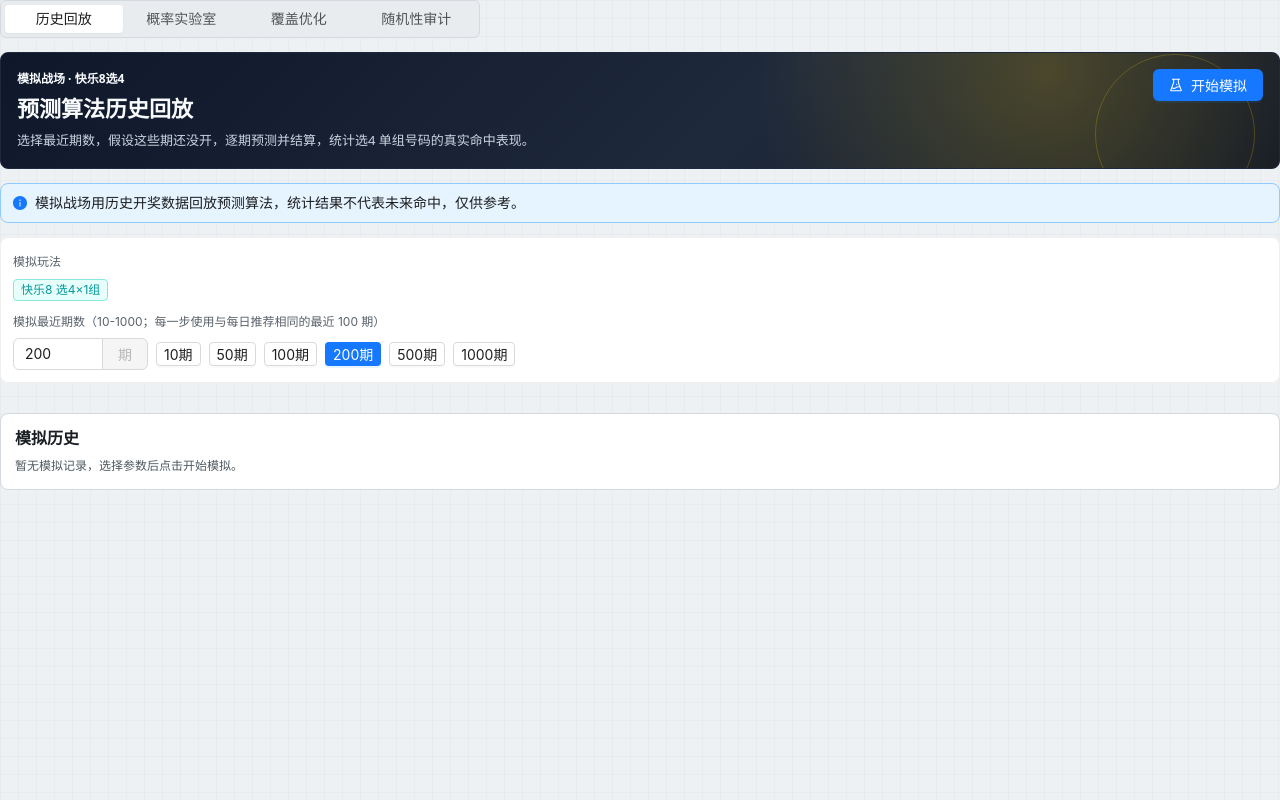
Test case: SimulationPanel › switches between replay and probability lab modes
Expected: the text "暂无模拟记录，选择参数后点击开始模拟。" is shown, [15,457,243,474]
Click the text "概率实验室".
click(181, 18)  # box [146,10,216,27]
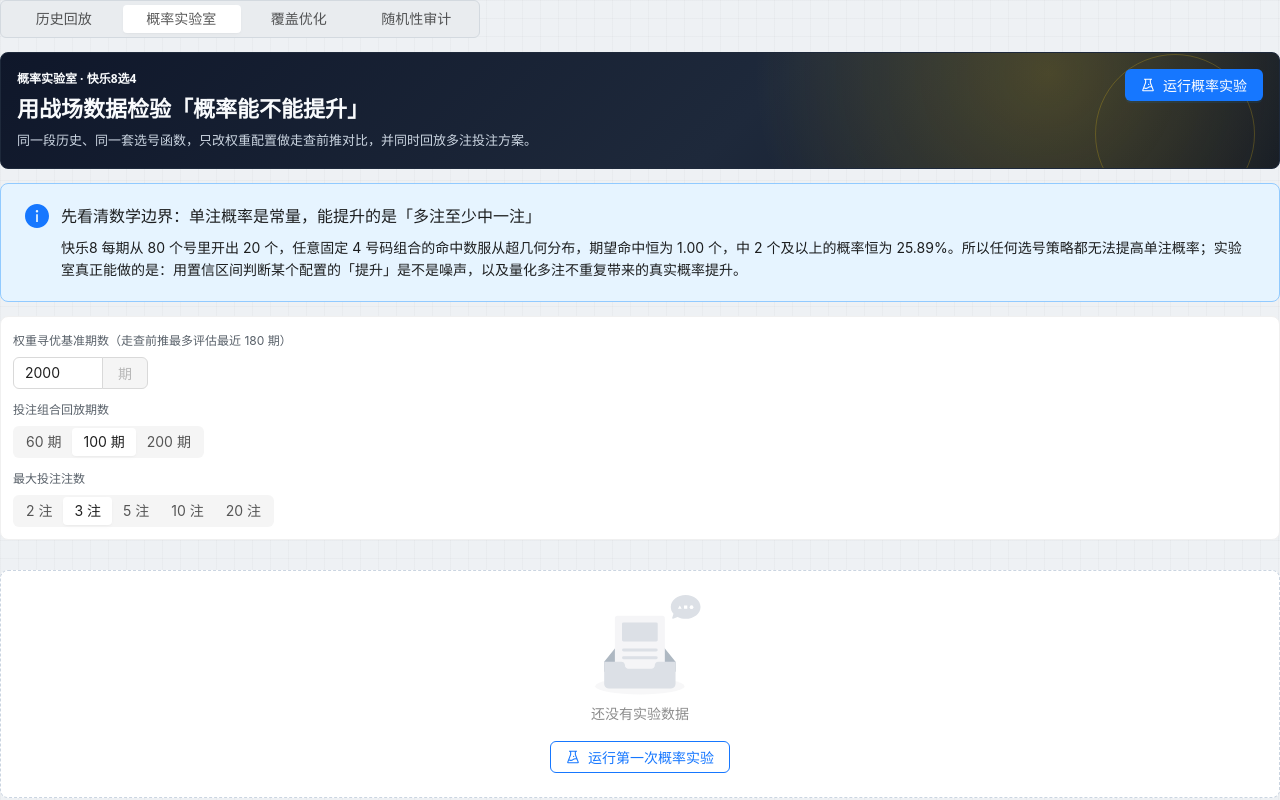
Now the text "还没有实验数据" is shown, box [591,705,689,722]
Now the text "暂无模拟记录，选择参数后点击开始模拟。" is gone
Click the text "历史回放".
click(64, 18)  # box [36,10,92,27]
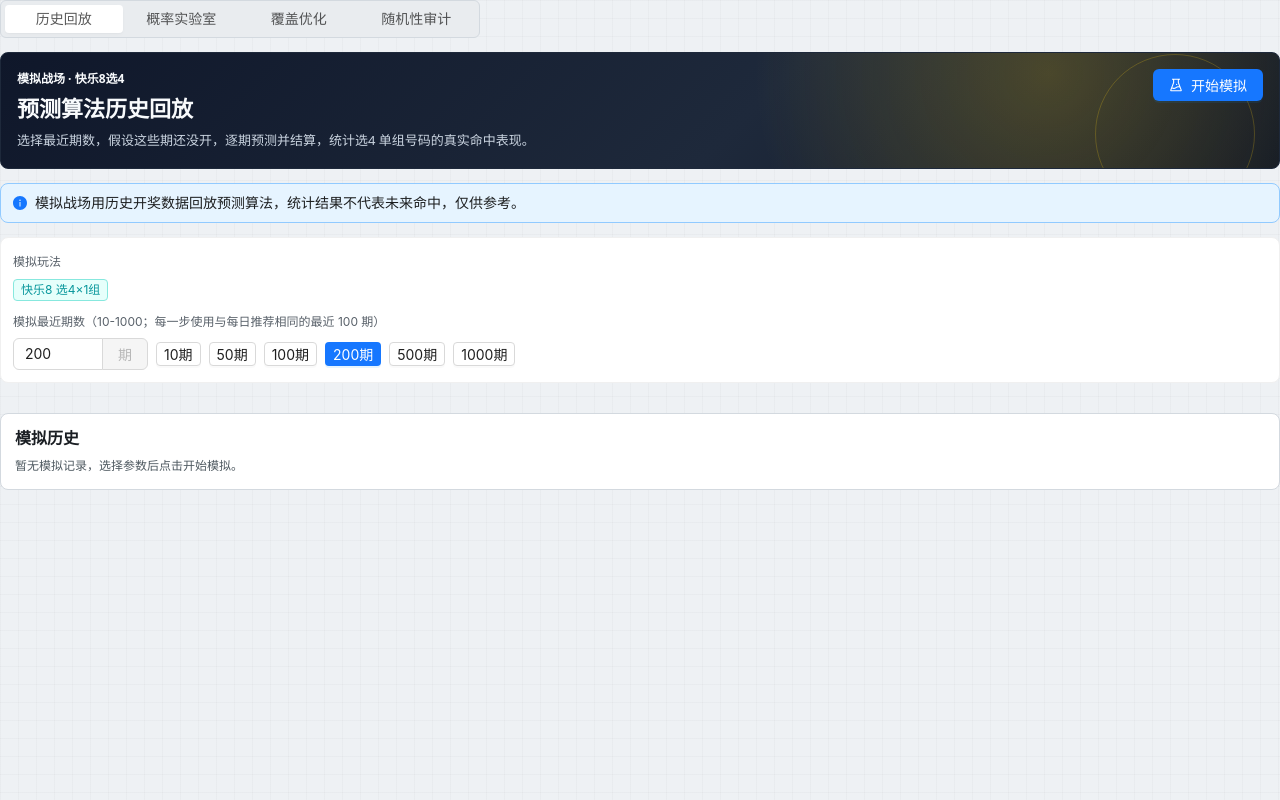
Now the text "暂无模拟记录，选择参数后点击开始模拟。" is shown, box [15,457,243,474]
